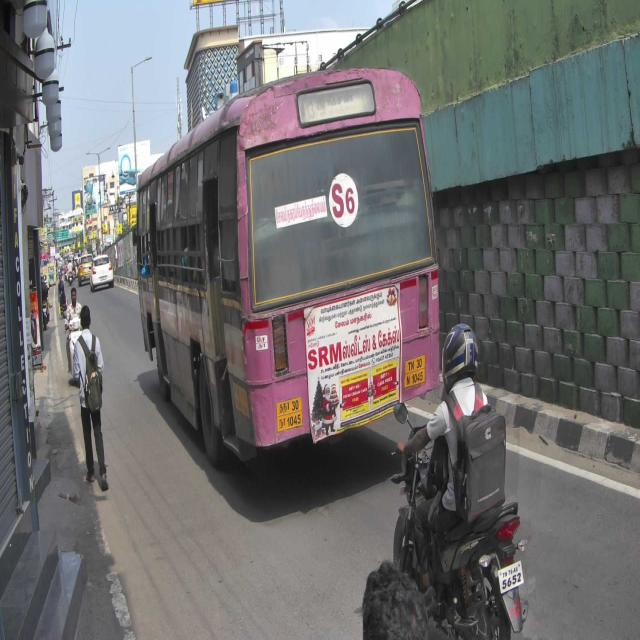single_rider: (389, 320, 531, 640)
